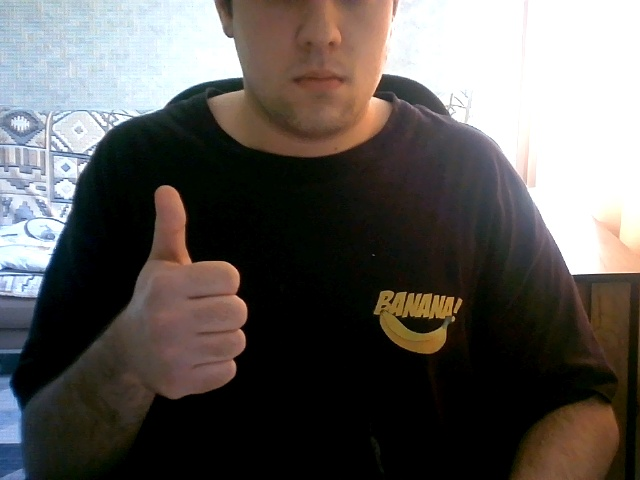good: (124, 185, 260, 402)
